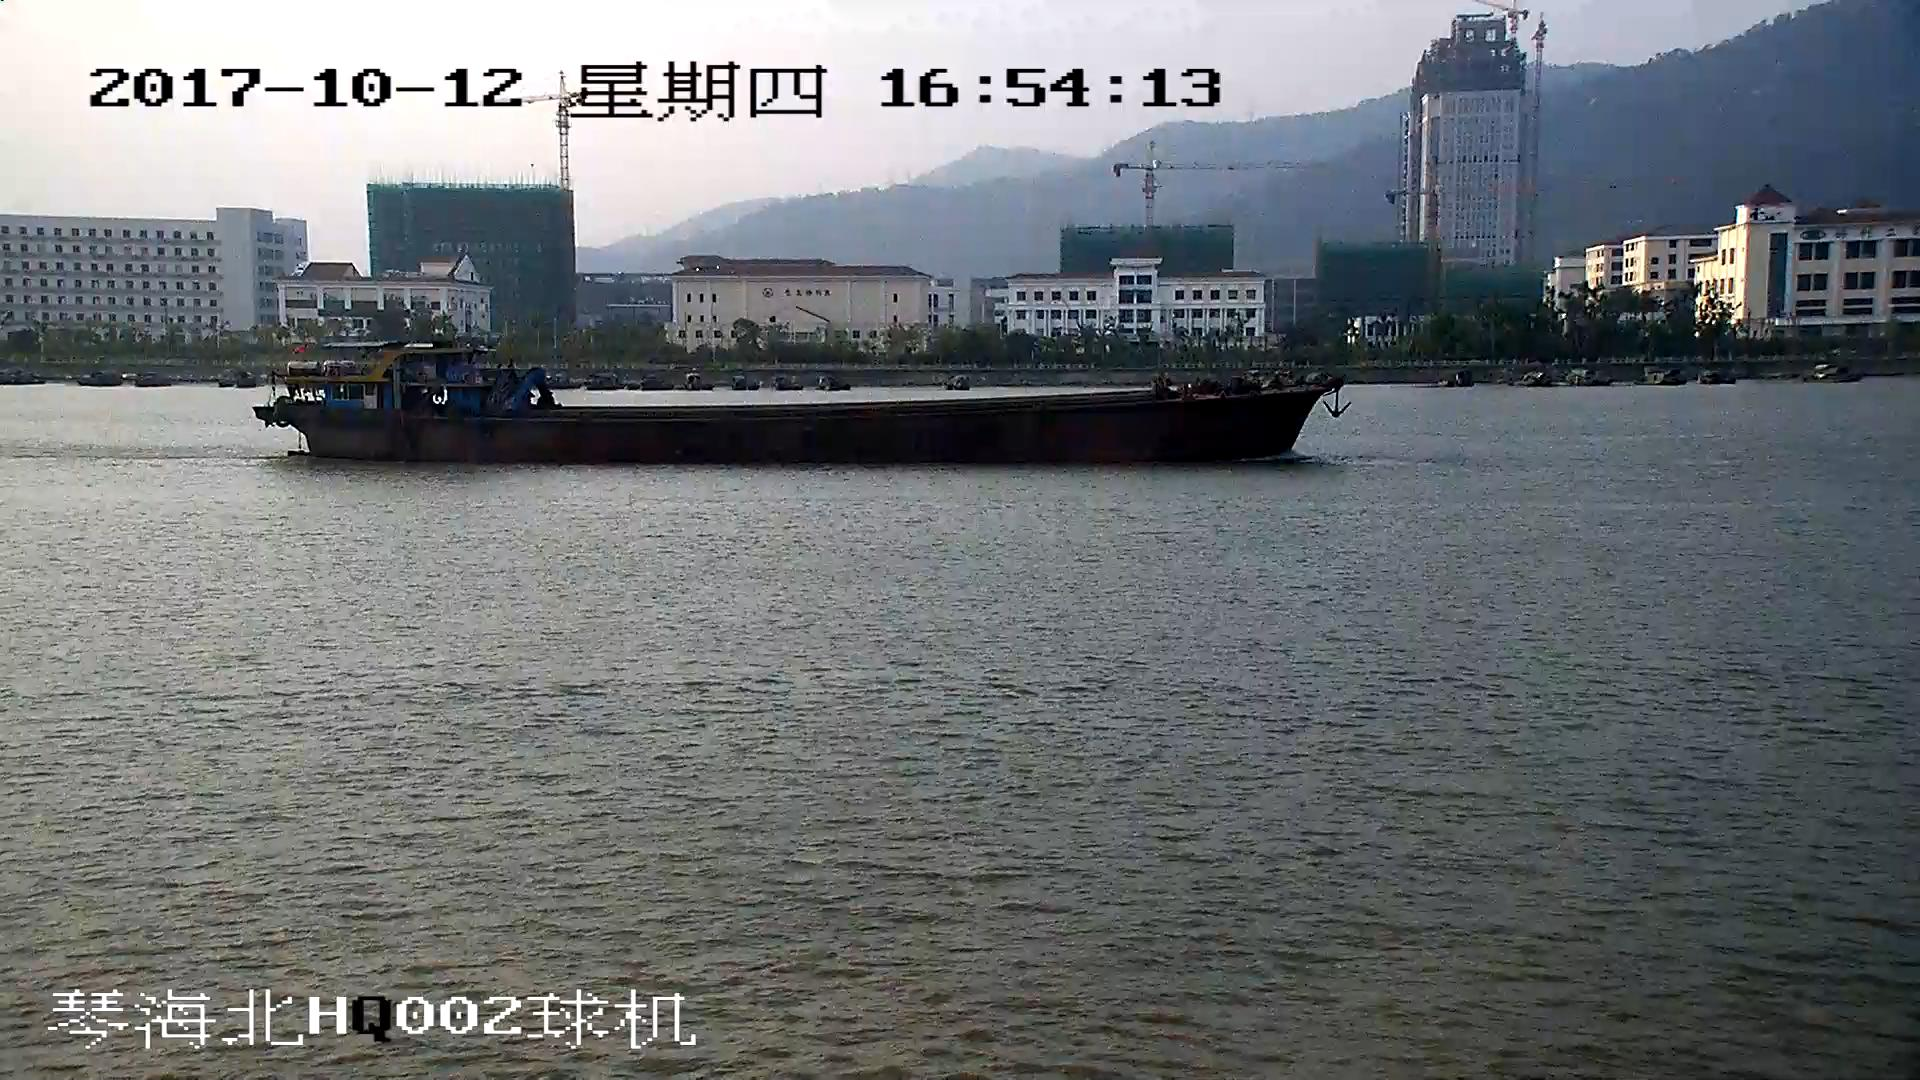bulk cargo carrier: (255, 337, 1344, 465)
